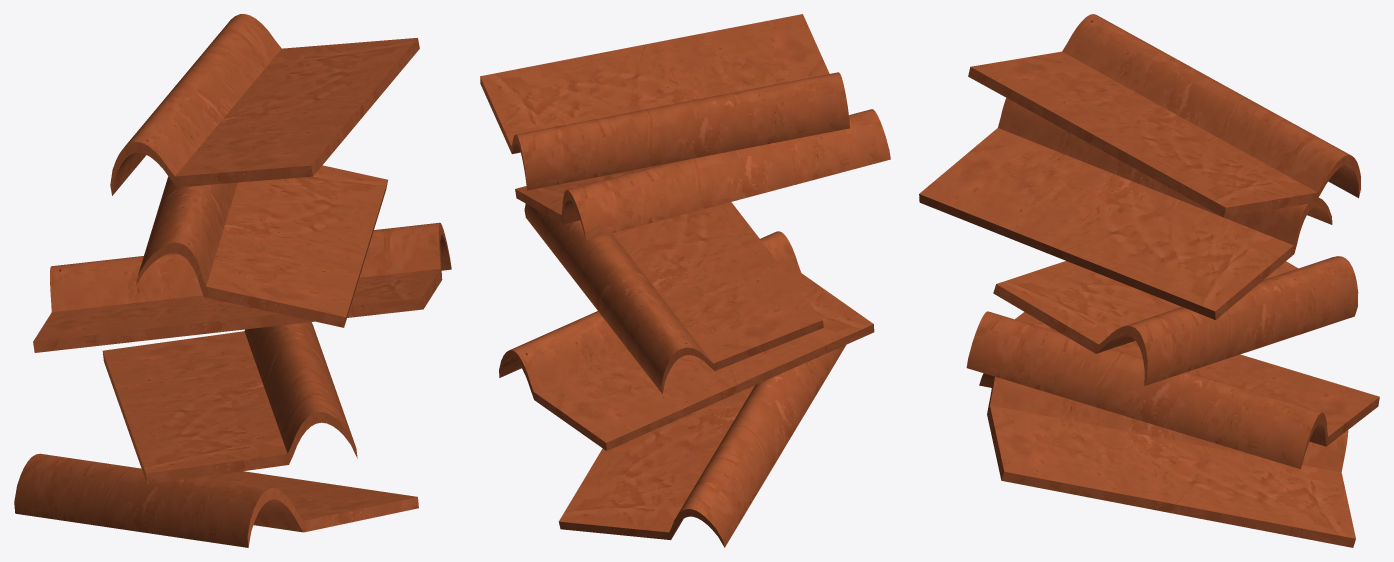
The model's file is COB-CER-003_anim.glb.
3 views of the same model, side by side, from view 1: azimuth 30°, elevation 25°; view 2: azimuth 150°, elevation 25°; view 3: azimuth 270°, elevation 25° (orthographic). The views are drawn at different scales.
Visible parts, largest first — view 1: COB-CER-003_anim4, COB-CER-003_anim1, COB-CER-003_anim3, COB-CER-003_anim2, COB-CER-003_anim0; view 2: COB-CER-003_anim4, COB-CER-003_anim2, COB-CER-003_anim0, COB-CER-003_anim1, COB-CER-003_anim3; view 3: COB-CER-003_anim3, COB-CER-003_anim4, COB-CER-003_anim0, COB-CER-003_anim1, COB-CER-003_anim2.
Part boxes in pixels (x1,y1,x2,y2): COB-CER-003_anim4: (110, 14, 419, 195); COB-CER-003_anim1: (102, 322, 357, 484); COB-CER-003_anim3: (136, 165, 387, 327); COB-CER-003_anim2: (33, 222, 451, 352); COB-CER-003_anim0: (14, 453, 418, 547); COB-CER-003_anim4: (480, 14, 849, 190); COB-CER-003_anim2: (524, 202, 823, 393); COB-CER-003_anim0: (558, 345, 845, 547); COB-CER-003_anim1: (499, 231, 874, 450); COB-CER-003_anim3: (515, 109, 890, 240); COB-CER-003_anim3: (919, 98, 1332, 319); COB-CER-003_anim4: (968, 14, 1360, 217); COB-CER-003_anim0: (979, 373, 1355, 547); COB-CER-003_anim1: (966, 311, 1379, 469); COB-CER-003_anim2: (993, 256, 1358, 385).
Size of the model in its own units: 0.4734 by 0.5506 by 0.5139.
Materials: 1 (1 with a texture image).
